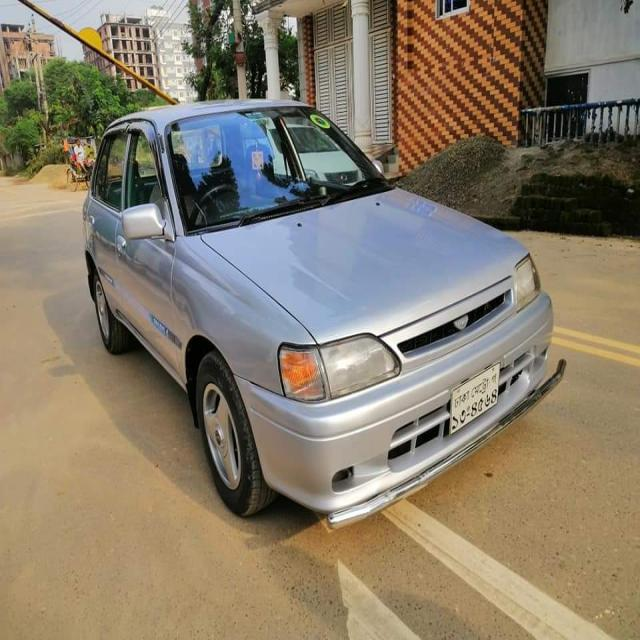silver: (79, 98, 554, 508)
